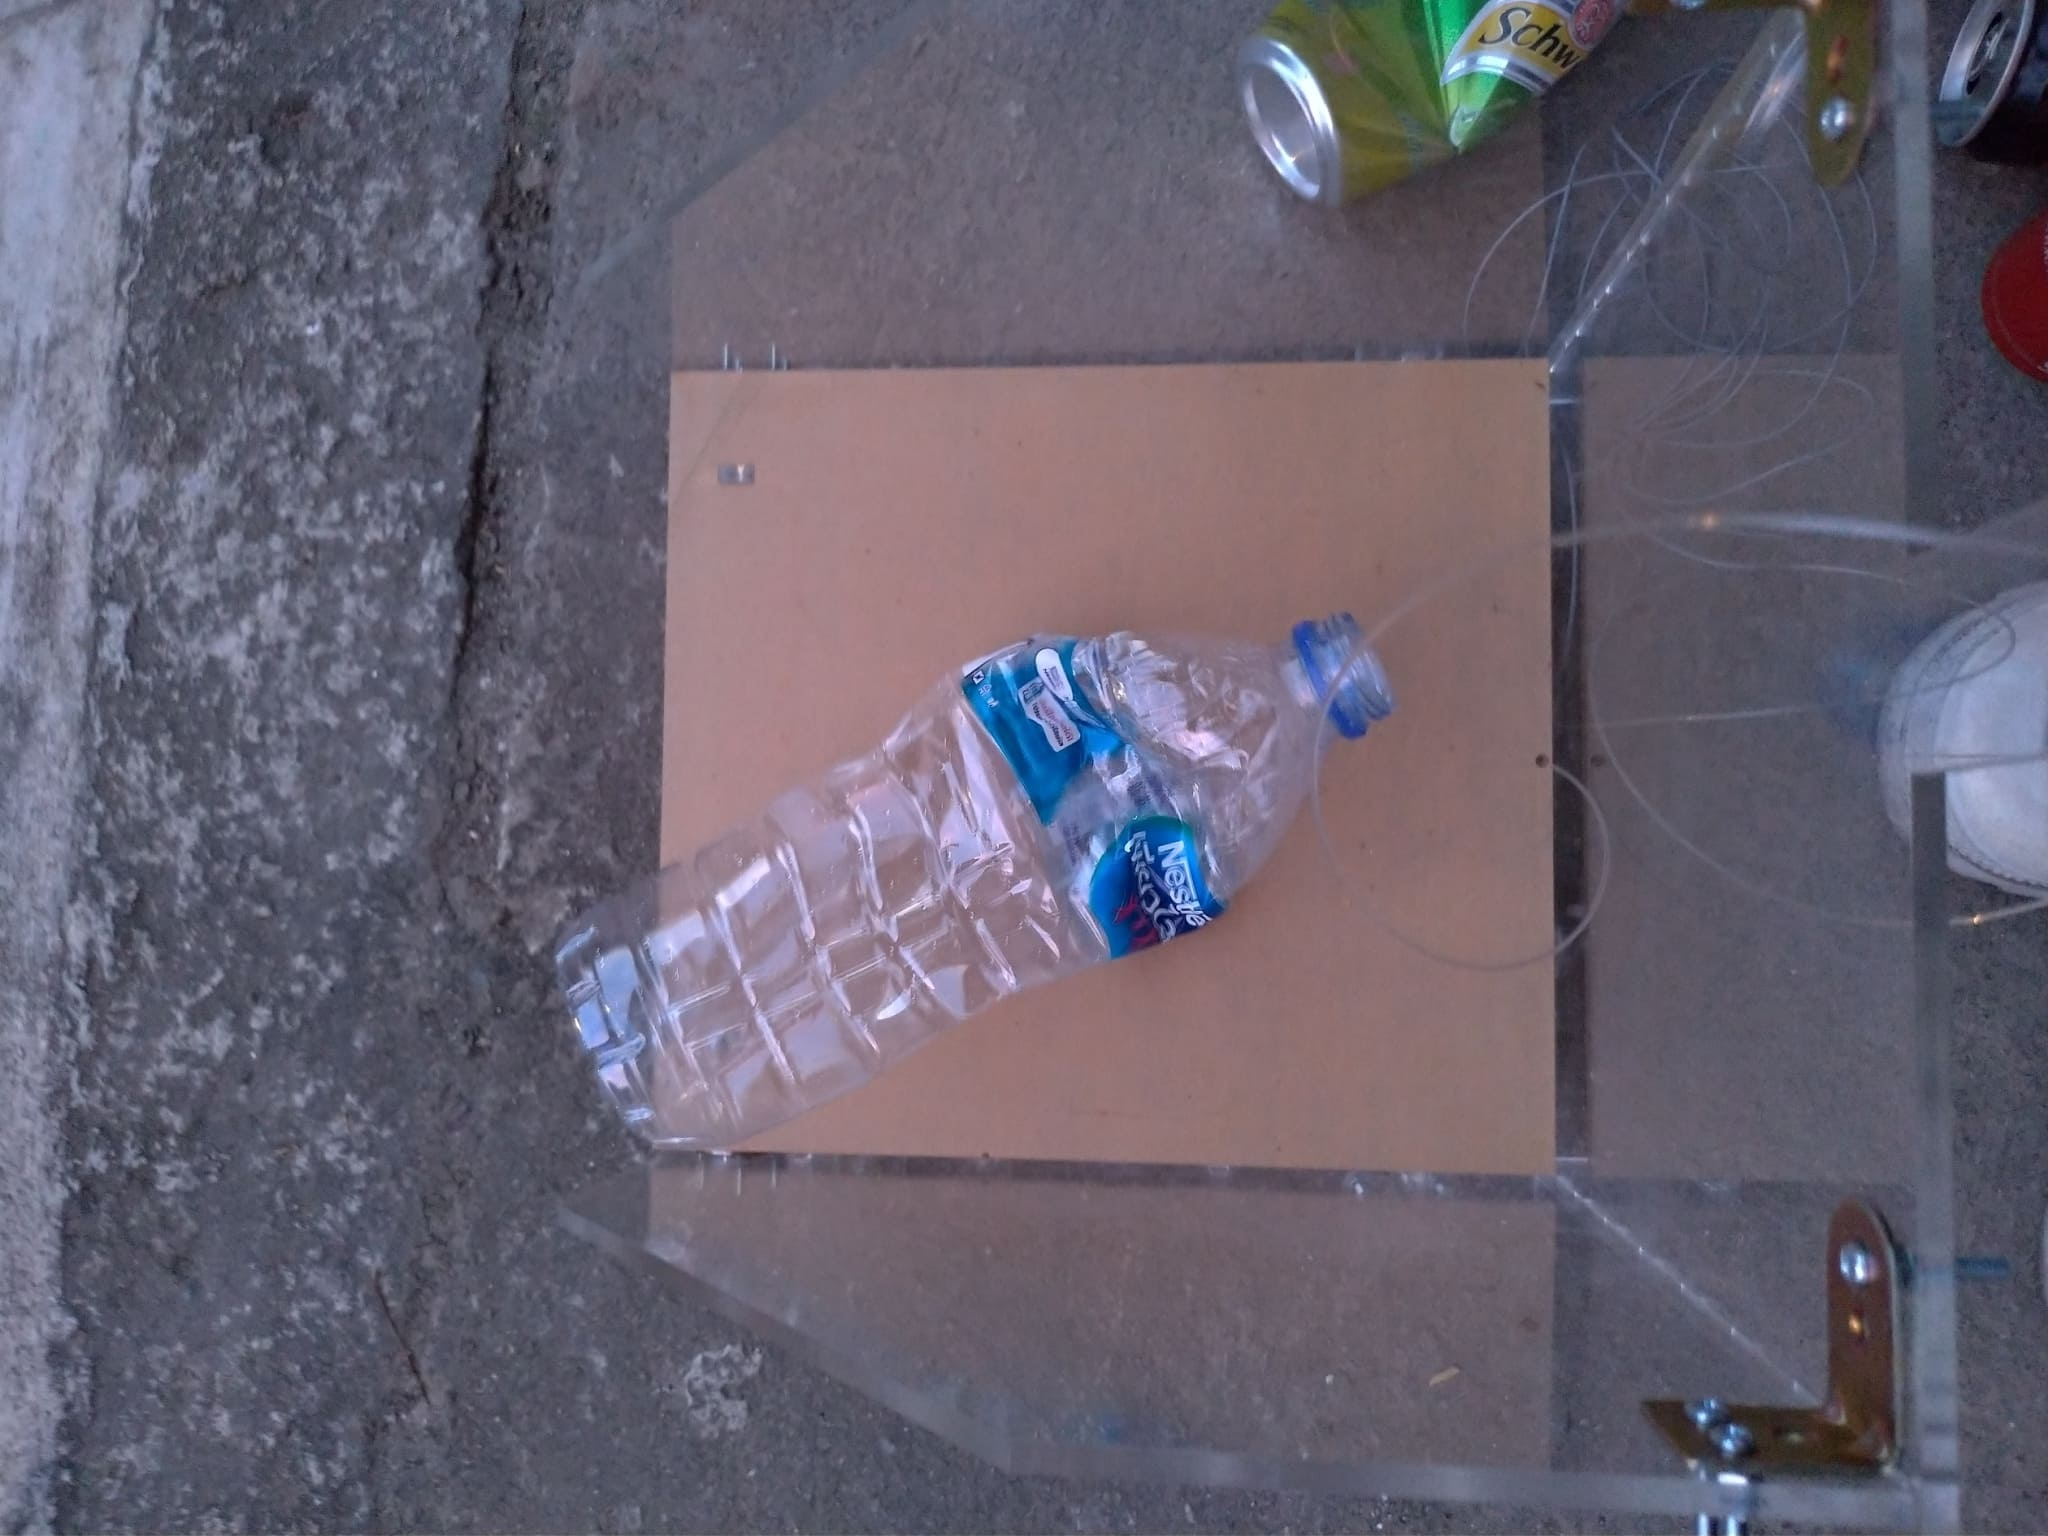AlCan: (1232, 2, 1629, 215), (1932, 10, 2048, 153)
PlasticBottle: (560, 611, 1405, 1171)
